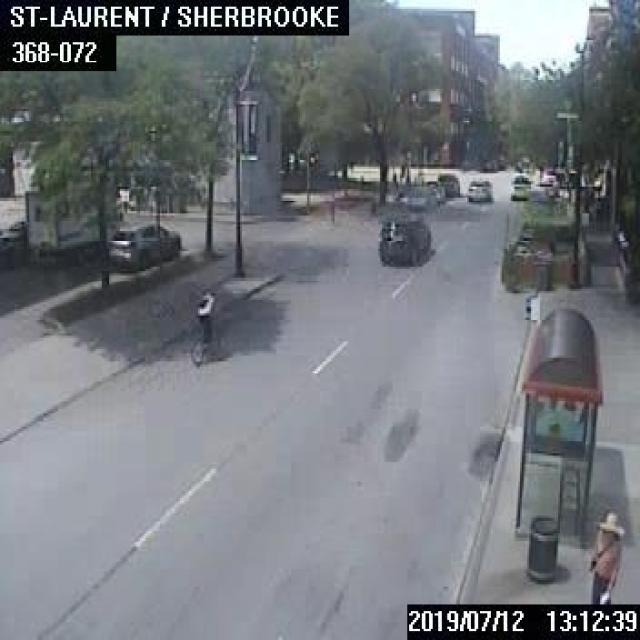cyclist: (188, 284, 231, 366)
pedestrian: (583, 512, 622, 602)
vehicle: (25, 185, 123, 262), (108, 220, 180, 266), (377, 211, 428, 265), (405, 184, 434, 207), (466, 176, 490, 201), (436, 172, 459, 196), (509, 174, 531, 198), (424, 178, 445, 202)
